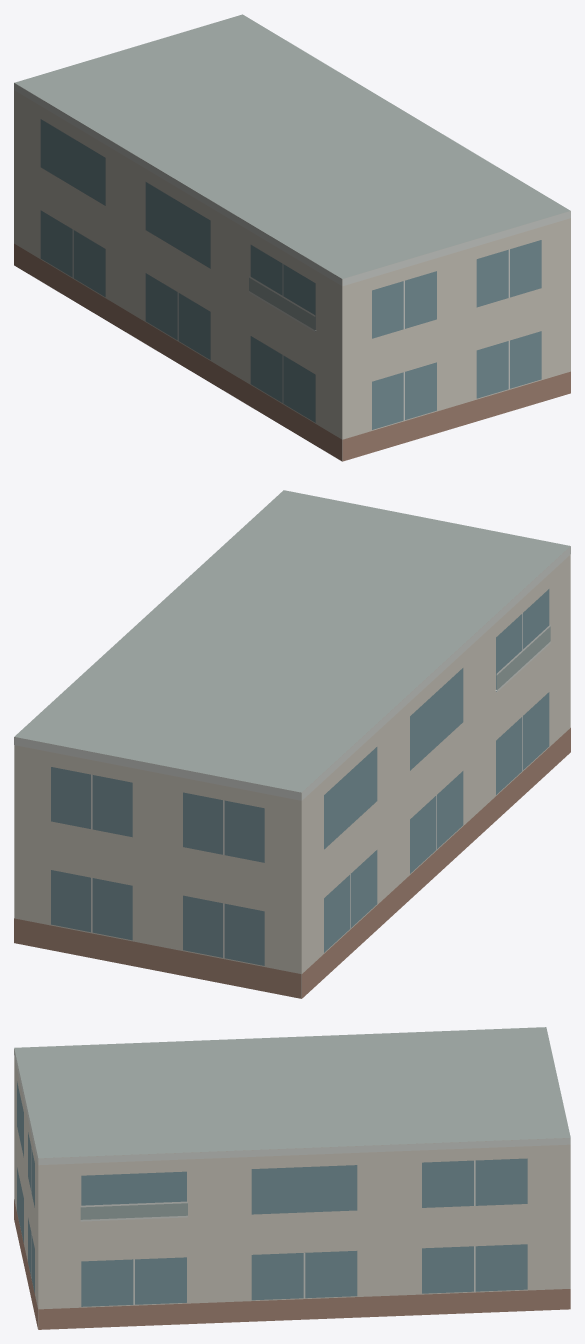
File: survey-upis-32739400.glb
The picture shows the model from 3 angles, top to bottom: view 1: azimuth 30°, elevation 25°; view 2: azimuth 150°, elevation 25°; view 3: azimuth 270°, elevation 25°; orthographic projection. The views are drawn at different scales.
Visible parts, largest first — view 1: survey-upis-32739400.tmp; view 2: survey-upis-32739400.tmp; view 3: survey-upis-32739400.tmp.
Boxes of the visible parts, <box> form: survey-upis-32739400.tmp: <box>14,14,570,461</box>; survey-upis-32739400.tmp: <box>14,490,570,998</box>; survey-upis-32739400.tmp: <box>14,1027,570,1329</box>.
Size of the model in its own units: 10.03 by 6.1 by 17.96.
